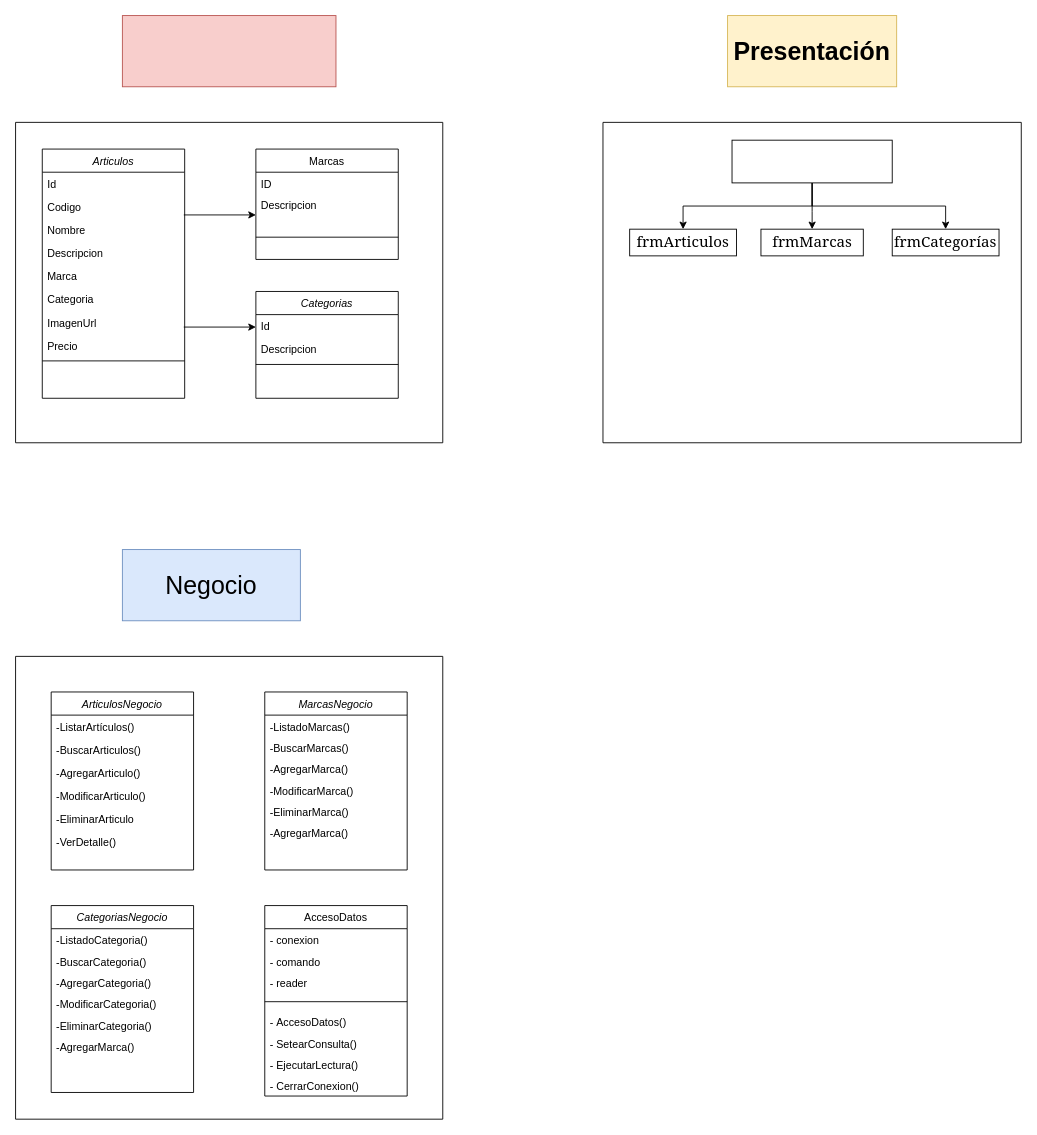
This 1037x1135 diagram has some shape labels left out. The shapes that lost their labels are listed below. From the top down, each one's centre as x and y in pixels, then its label:
At point (228, 51): "Dominio".
At point (811, 161): "frmMenuPrincipal".
